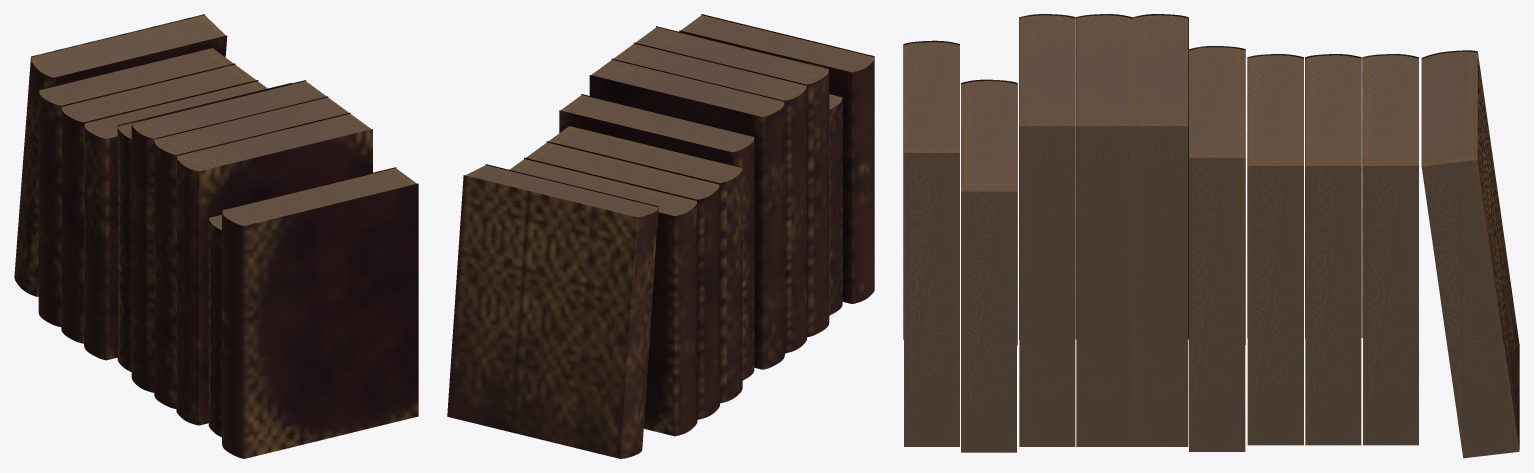
The model's file is SM_BookPile3.fbx.
3 renders of one model, left to right at view 1: azimuth 30°, elevation 25°; view 2: azimuth 150°, elevation 25°; view 3: azimuth 270°, elevation 25°, orthographic. The views are drawn at different scales.
Parts seen in each view (by area): view 1: SM_BookPile3_LOD0; view 2: SM_BookPile3_LOD0; view 3: SM_BookPile3_LOD0.
Part boxes in pixels (box(x1,y1,x2,y2)): SM_BookPile3_LOD0: box(14, 14, 418, 458); SM_BookPile3_LOD0: box(447, 14, 874, 458); SM_BookPile3_LOD0: box(903, 14, 1519, 458).
Bounding box in the file's own units: 36.56 × 78.88 × 46.04.
Materials: 1 (1 with a texture image).
